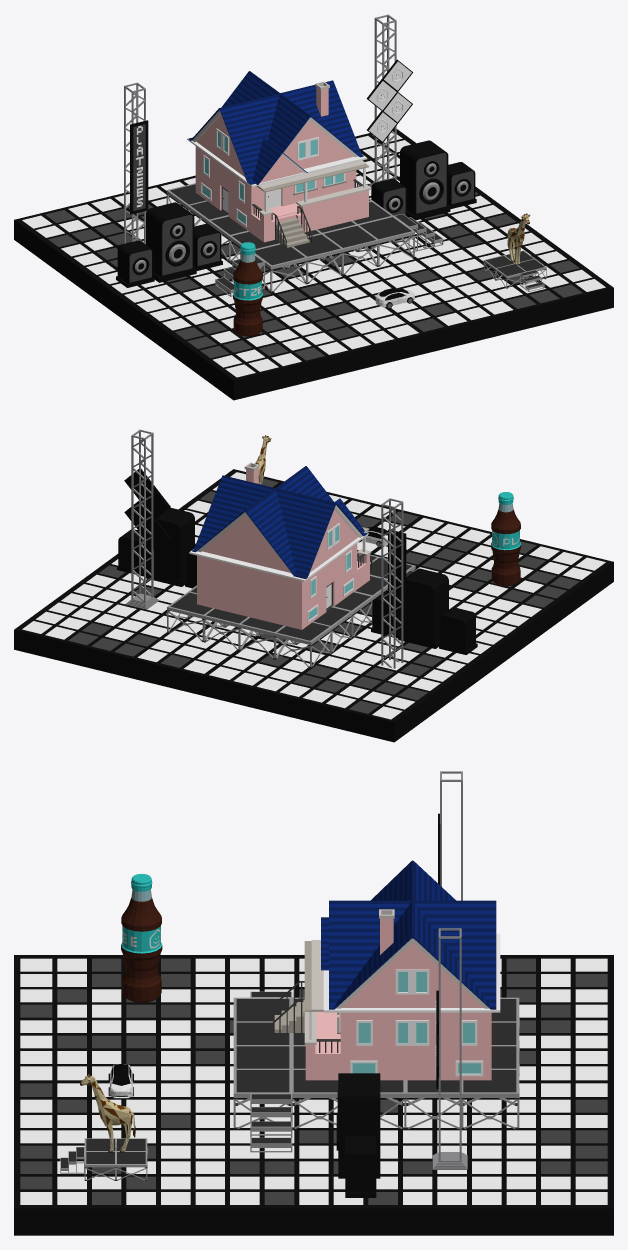
3 views of the same model, one above another, from view 1: azimuth 30°, elevation 25°; view 2: azimuth 150°, elevation 25°; view 3: azimuth 270°, elevation 25° (orthographic). The views are drawn at different scales.
Visible parts, largest first — view 1: Cube.008, Cube.313, OBJRANDOM_PLATZEECOLA, ANIMAL_JIRAFA, VEHICLES_TESLA; view 2: Cube.008, Cube.313, OBJRANDOM_PLATZEECOLA; view 3: Cube.008, Cube.313, OBJRANDOM_PLATZEECOLA, ANIMAL_JIRAFA, VEHICLES_TESLA.
Boxes of the visible parts, x1,y1,x2,y2 form: Cube.008: (14,14,613,400); Cube.313: (187,71,371,248); OBJRANDOM_PLATZEECOLA: (233,242,262,336); ANIMAL_JIRAFA: (507,213,530,265); VEHICLES_TESLA: (375,288,415,308); Cube.008: (14,429,613,742); Cube.313: (189,462,372,629); OBJRANDOM_PLATZEECOLA: (491,492,520,586); Cube.008: (14,771,613,1235); Cube.313: (272,860,500,1080); OBJRANDOM_PLATZEECOLA: (121,873,162,1002); ANIMAL_JIRAFA: (80,1073,135,1152); VEHICLES_TESLA: (108,1064,133,1098).
Bounding box in the file's own units: 4000 × 1950 × 4000.
Materials: 43 (1 with a texture image).
